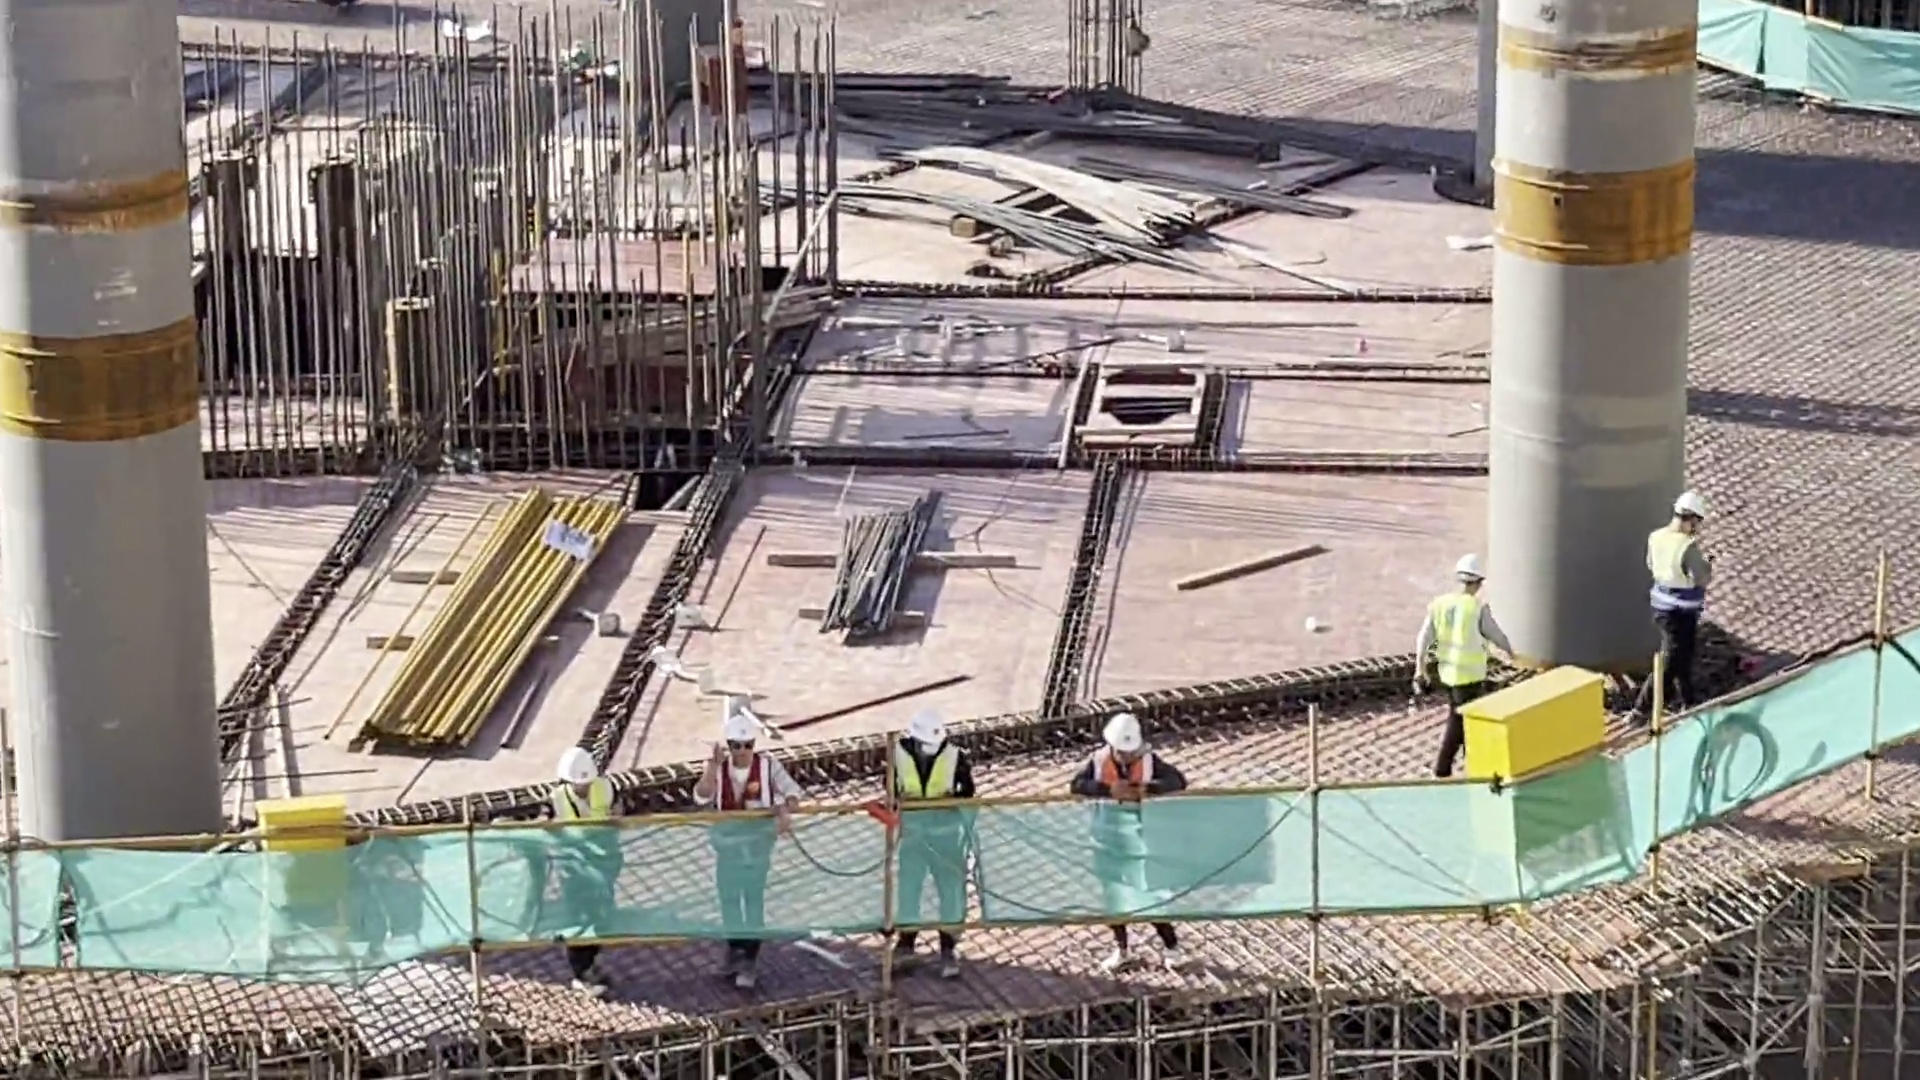ebox: (1464, 652, 1644, 861), (249, 779, 362, 942)
helmet: (895, 700, 952, 748), (1103, 706, 1151, 741), (719, 715, 762, 748), (564, 745, 595, 772), (1680, 490, 1707, 517), (1456, 549, 1482, 574)
person: (1640, 480, 1744, 775), (1407, 546, 1518, 806), (884, 717, 986, 983), (1078, 708, 1173, 974), (700, 709, 786, 971), (537, 741, 625, 960)
vest: (880, 741, 962, 848), (711, 748, 770, 850), (1092, 748, 1158, 828), (554, 787, 621, 863), (1433, 589, 1486, 682), (1644, 519, 1697, 609)
